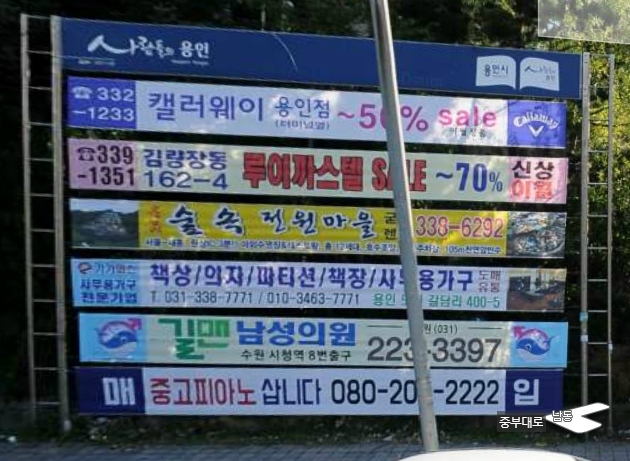banner: (57, 67, 581, 155), (50, 134, 595, 214), (50, 194, 594, 264), (49, 248, 593, 314), (54, 305, 594, 368), (55, 356, 595, 419)
